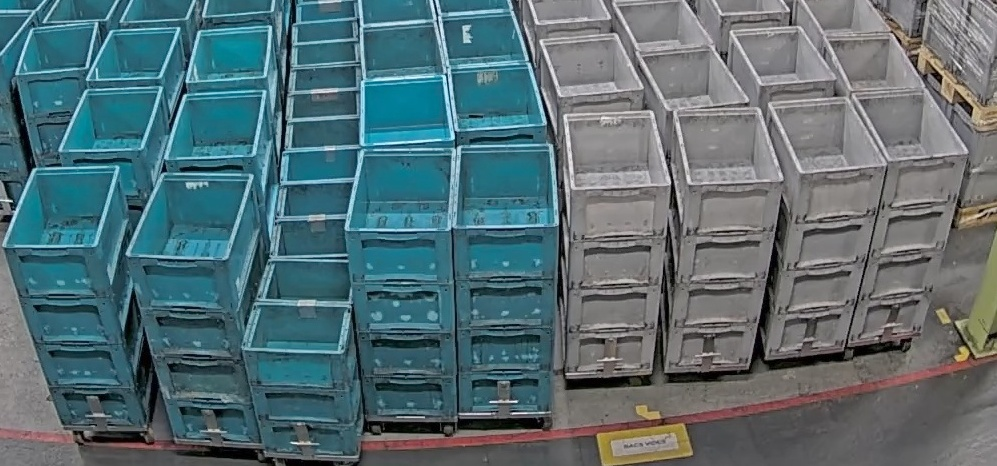4G: (759, 93, 888, 355), (661, 106, 786, 371), (845, 87, 969, 348), (561, 110, 673, 378)
B4: (1, 166, 154, 430), (124, 171, 270, 444), (343, 146, 459, 420), (450, 142, 560, 415), (13, 20, 102, 167)
B8: (241, 257, 365, 458)
